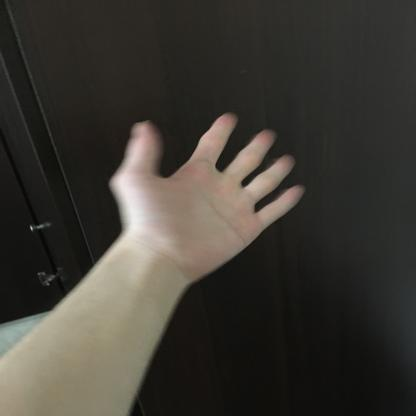bare_hand: (98, 103, 314, 290)
